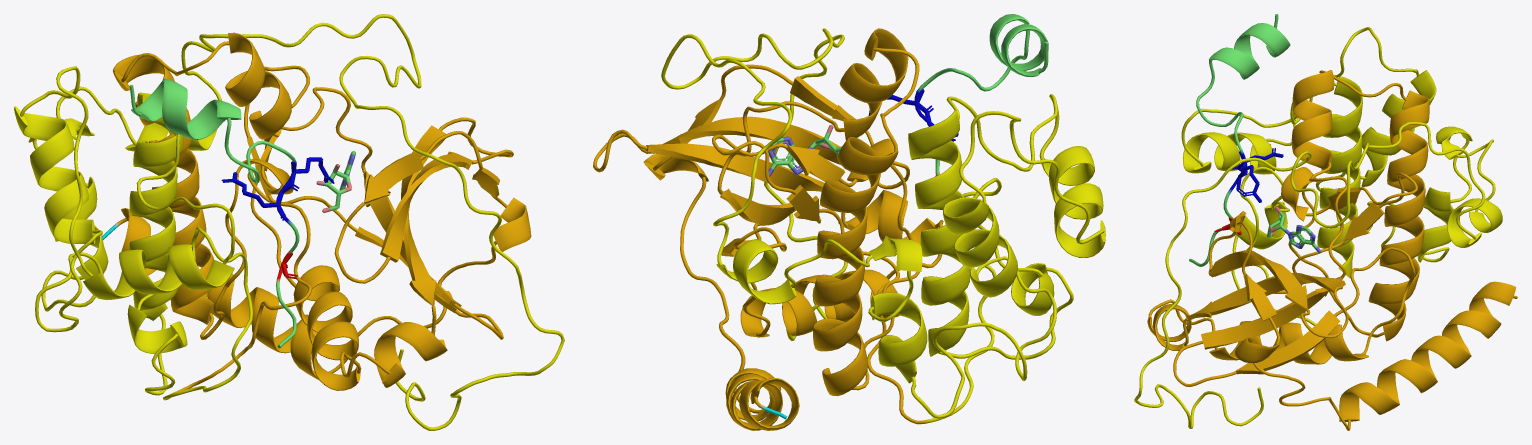
Rendered from pka.glb.
3 renders of one model, left to right at view 1: azimuth 30°, elevation 25°; view 2: azimuth 150°, elevation 25°; view 3: azimuth 270°, elevation 25°, orthographic. The views are drawn at different scales.
Visible parts, largest first — view 1: node-geom58_35, node-geom59_34, node-geom91_2, node-geom60_33; view 2: node-geom59_34, node-geom58_35, node-geom91_2, node-geom60_33; view 3: node-geom58_35, node-geom59_34, node-geom91_2, node-geom60_33.
Part boxes in pixels (<box>): node-geom58_35: <box>102,32,531,390</box>; node-geom59_34: <box>14,17,564,430</box>; node-geom91_2: <box>129,78,299,348</box>; node-geom60_33: <box>181,14,564,430</box>; node-geom59_34: <box>661,30,1105,424</box>; node-geom58_35: <box>593,28,943,430</box>; node-geom91_2: <box>914,14,1048,234</box>; node-geom60_33: <box>661,28,845,340</box>; node-geom58_35: <box>1147,70,1517,430</box>; node-geom59_34: <box>1134,27,1502,426</box>; node-geom91_2: <box>1189,14,1290,266</box>; node-geom60_33: <box>1134,129,1399,428</box>.
Bounding box in the file's own units: 55.6 × 44.55 × 48.36.
